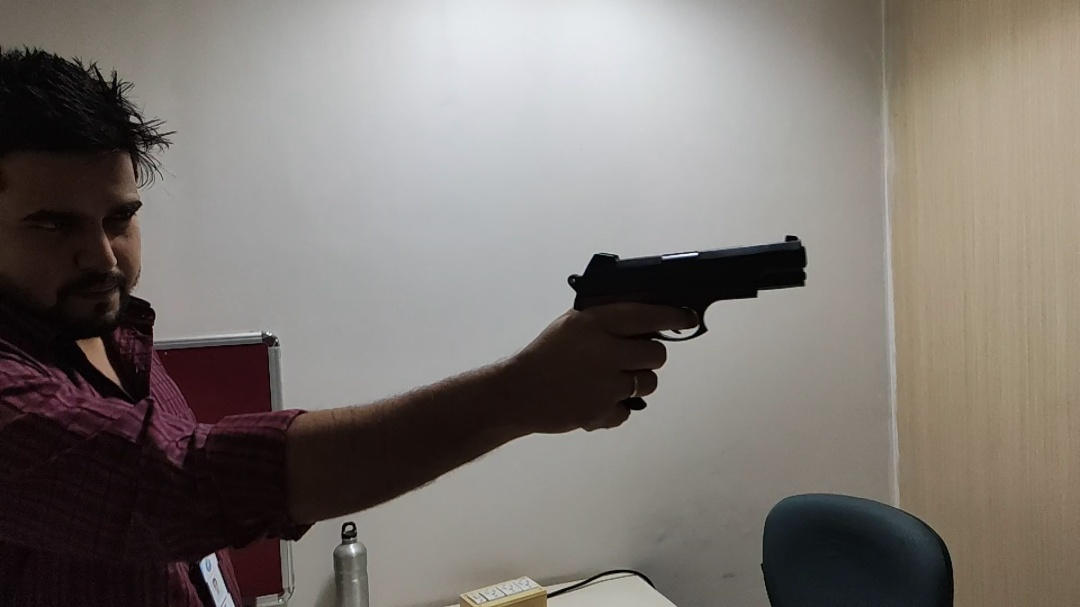gun: (568, 233, 812, 414)
